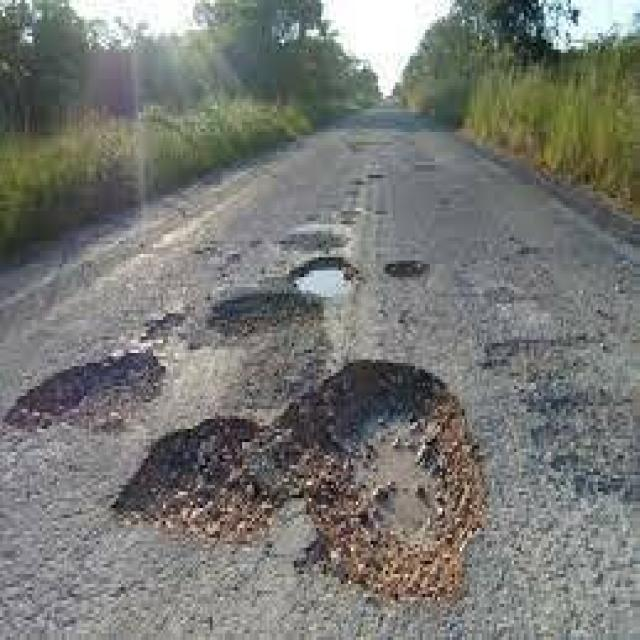Pothole: (2, 214, 516, 637)
